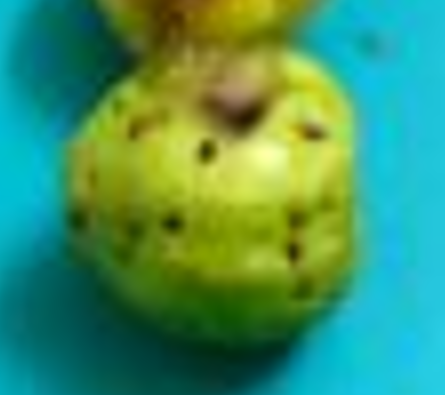guava_C: (63, 32, 363, 349)
